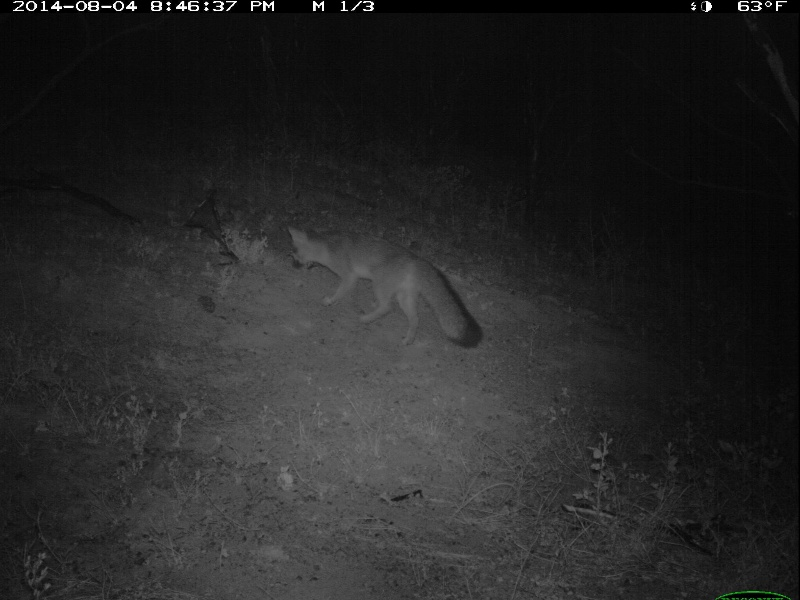fox: (286, 219, 485, 358)
